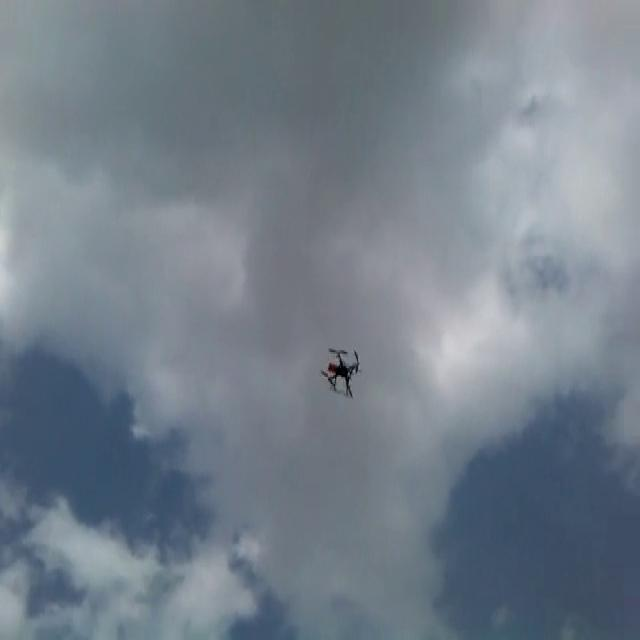drone: (318, 340, 361, 398)
